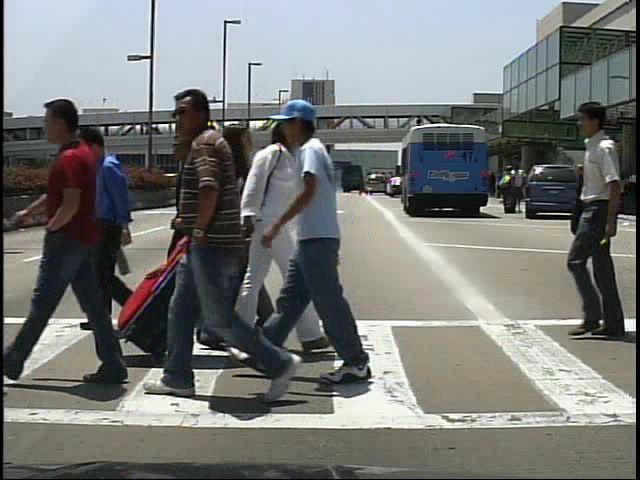person: (161, 84, 293, 422), (7, 91, 129, 389), (201, 112, 317, 363), (281, 104, 382, 386), (554, 101, 629, 341), (64, 122, 144, 341), (207, 121, 266, 361), (162, 129, 235, 322), (198, 134, 270, 329), (203, 185, 244, 322), (582, 167, 602, 218), (498, 166, 516, 219), (514, 165, 530, 215)
